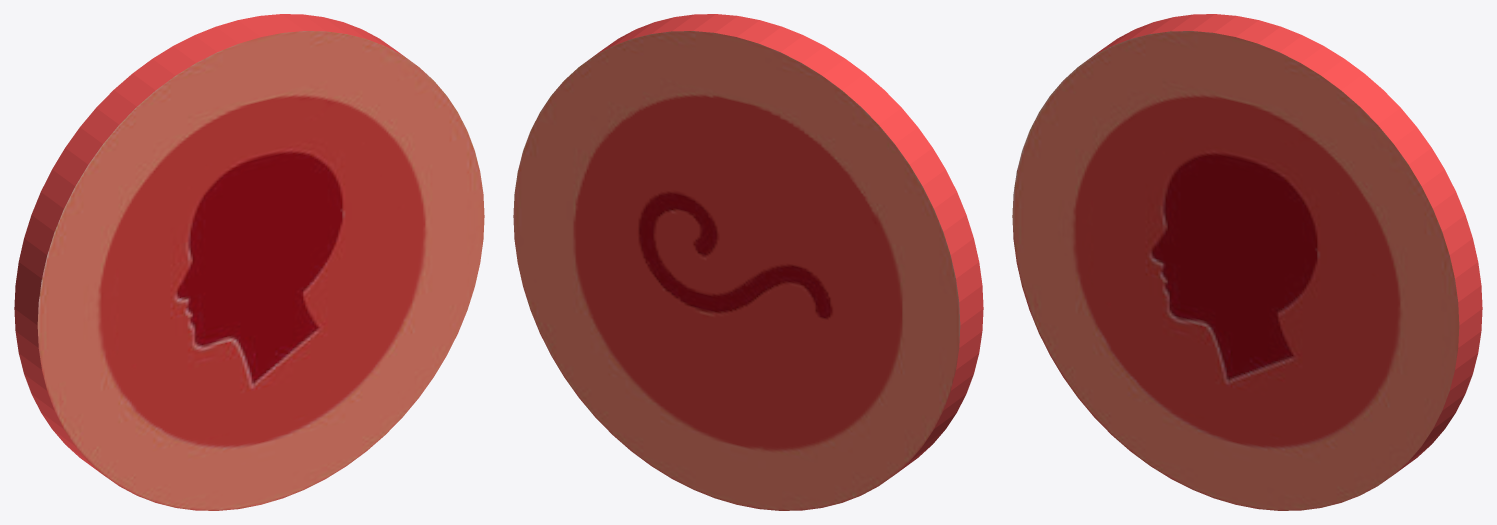
The model's file is coin.glb.
The picture shows the model from 3 angles, left to right: view 1: azimuth 30°, elevation 25°; view 2: azimuth 150°, elevation 25°; view 3: azimuth 330°, elevation 25°; orthographic projection.
Parts seen in each view (by area): view 1: Cylinder; view 2: Cylinder; view 3: Cylinder.
Boxes of the visible parts, left/top/right/bottom form: Cylinder: left=14, top=14, right=484, bottom=510; Cylinder: left=513, top=14, right=983, bottom=510; Cylinder: left=1012, top=14, right=1482, bottom=510.
Size of the model in its own units: 2 by 2 by 0.18.
Materials: 3 (2 with a texture image).
